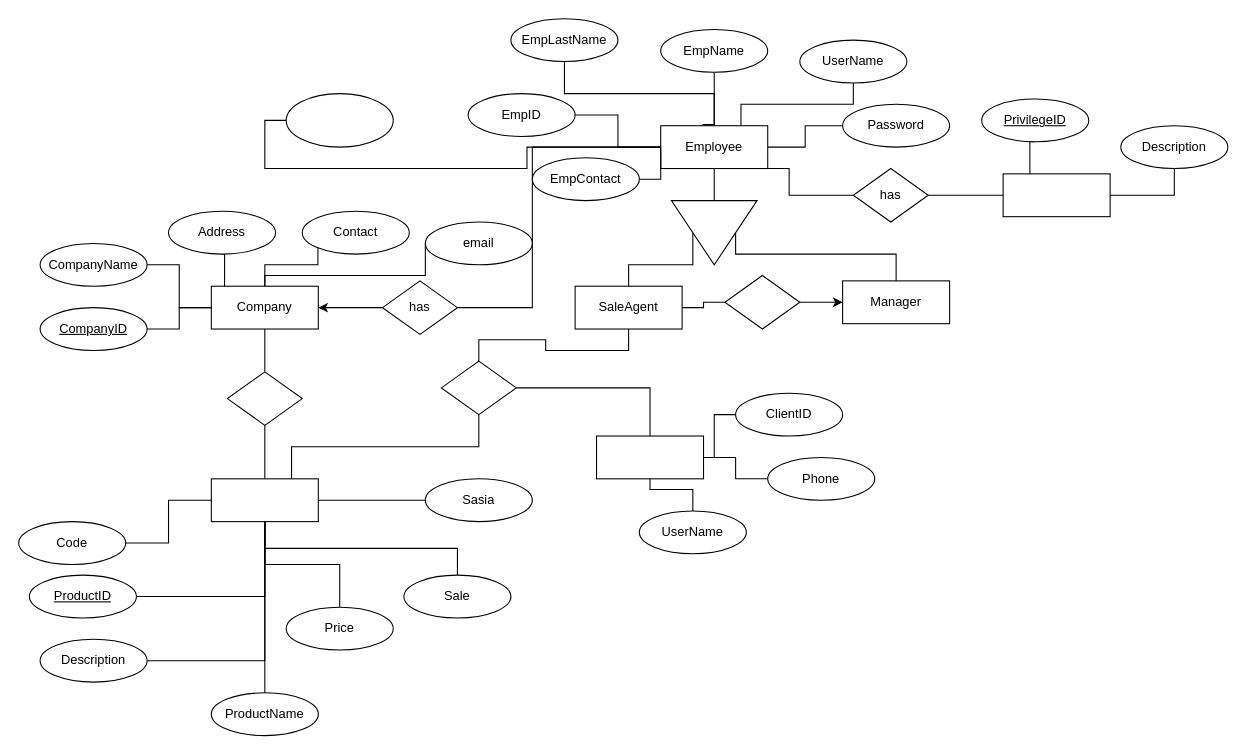
The diagram is 1247 pixels wide and 754 high, and some of its shapes have lost their labels. Here are the shapes that lost their labels. From the top down, the box of each, then its label:
(285, 93, 393, 147): Salary
(1002, 173, 1110, 217): Privileges
(670, 200, 757, 265): ISA
(724, 274, 800, 329): manages
(226, 371, 302, 425): owns
(440, 360, 516, 415): buys
(595, 435, 704, 479): Client
(210, 478, 318, 522): Product
